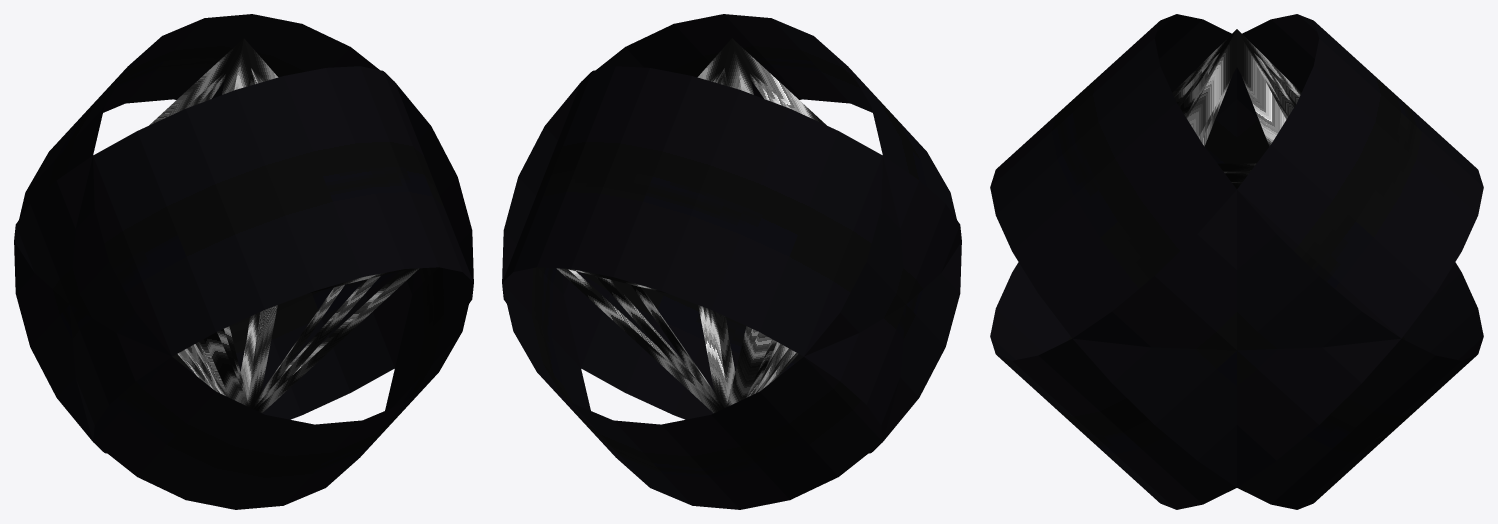
The model's file is proj_ChangeSpace.fbx.
The picture shows the model from 3 angles, left to right: view 1: azimuth 30°, elevation 25°; view 2: azimuth 150°, elevation 25°; view 3: azimuth 270°, elevation 25°; orthographic projection. The views are drawn at different scales.
Visible parts, largest first — view 1: particle_ring01_24pl (×2), pyramid_01 (×3); view 2: particle_ring01_24pl (×2), pyramid_01 (×3); view 3: particle_ring01_24pl (×2), pyramid_01 (×2).
Part boxes in pixels (x1,y1,x2,y2): particle_ring01_24pl (×2): (14, 14, 473, 509); pyramid_01 (×3): (149, 38, 419, 413); particle_ring01_24pl (×2): (502, 14, 961, 509); pyramid_01 (×3): (556, 38, 826, 413); particle_ring01_24pl (×2): (990, 14, 1483, 509); pyramid_01 (×2): (1172, 29, 1301, 182).
Size of the model in its own units: 0.9 by 1.08 by 1.06.
Materials: 2 (2 with a texture image).
